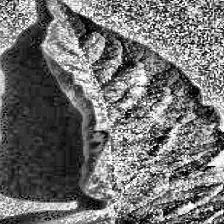spider mites: (20, 0, 224, 224)
